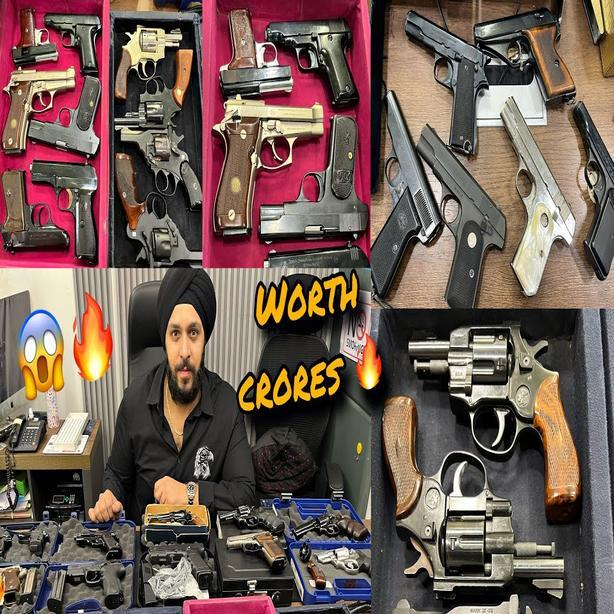Firearm: (395, 318, 603, 517), (381, 392, 570, 609), (218, 98, 372, 247), (414, 113, 506, 309), (493, 101, 581, 303), (214, 9, 365, 106), (403, 7, 497, 151), (380, 92, 442, 308), (113, 126, 205, 265), (3, 158, 104, 266), (112, 19, 197, 132), (13, 7, 100, 71), (39, 557, 131, 610), (221, 523, 296, 574), (141, 539, 216, 590), (286, 511, 370, 550), (69, 522, 124, 559)
